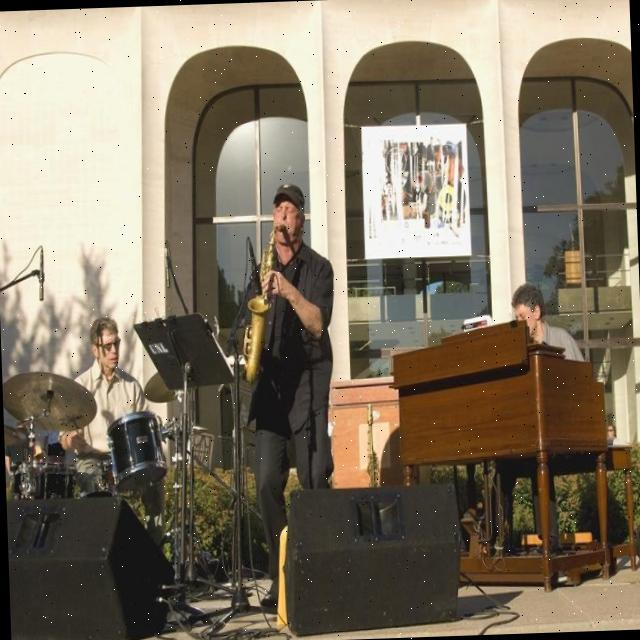drums: (1, 355, 200, 592)
saxophone: (236, 219, 293, 385)
